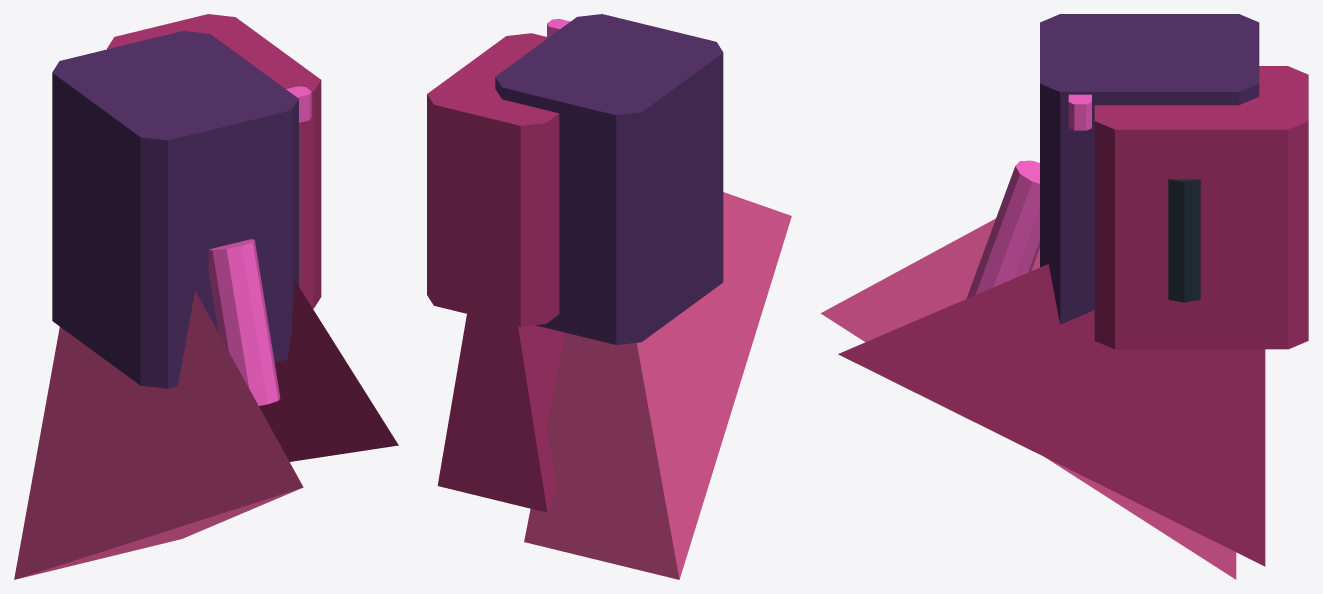
Rendered from enemy_striker_forearm_l.obj.
3 renders of one model, left to right at view 1: azimuth 30°, elevation 25°; view 2: azimuth 150°, elevation 25°; view 3: azimuth 270°, elevation 25°, orthographic. The views are drawn at different scales.
Size of the model in its own units: 0.5116 by 0.96 by 0.845.
